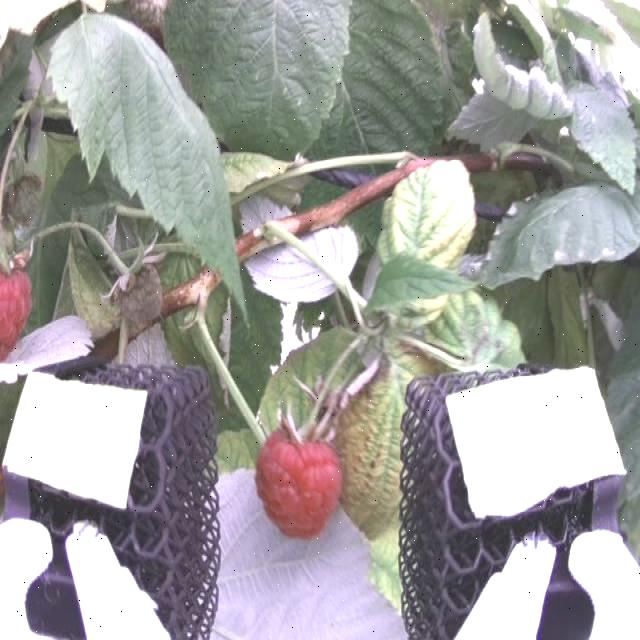Riped berries: (251, 415, 345, 539), (0, 243, 32, 353)
